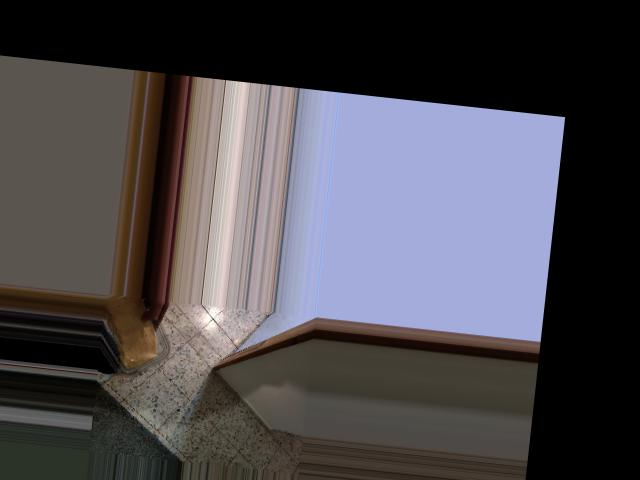cheese: (96, 292, 174, 377)
